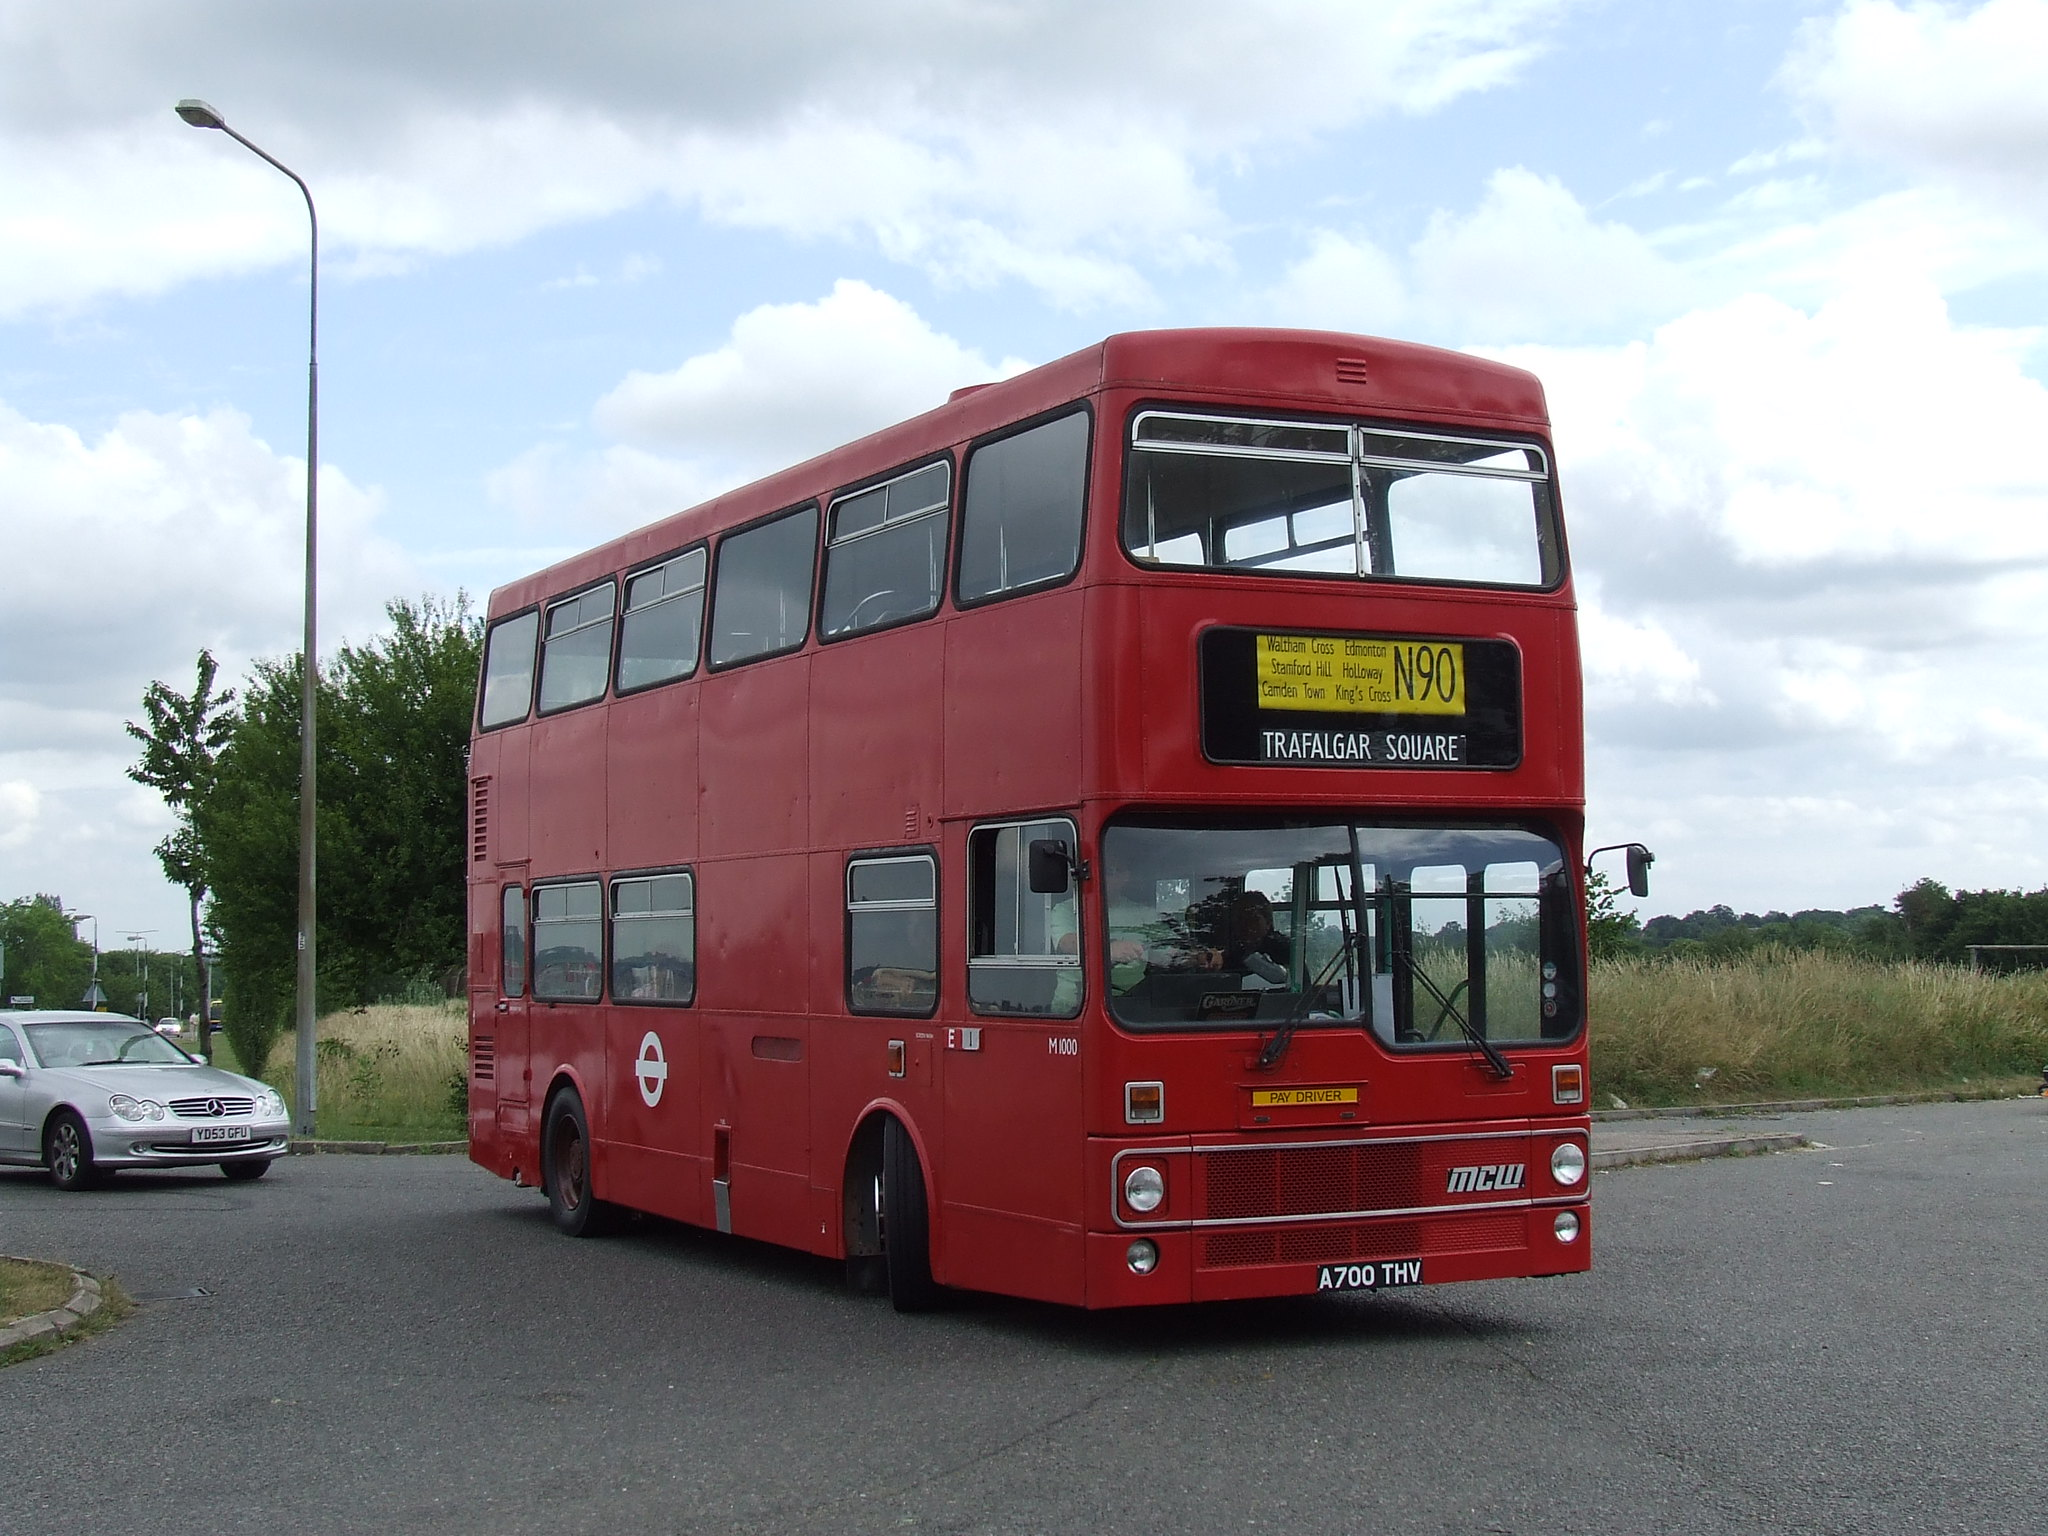bus: (476, 307, 1572, 1341)
